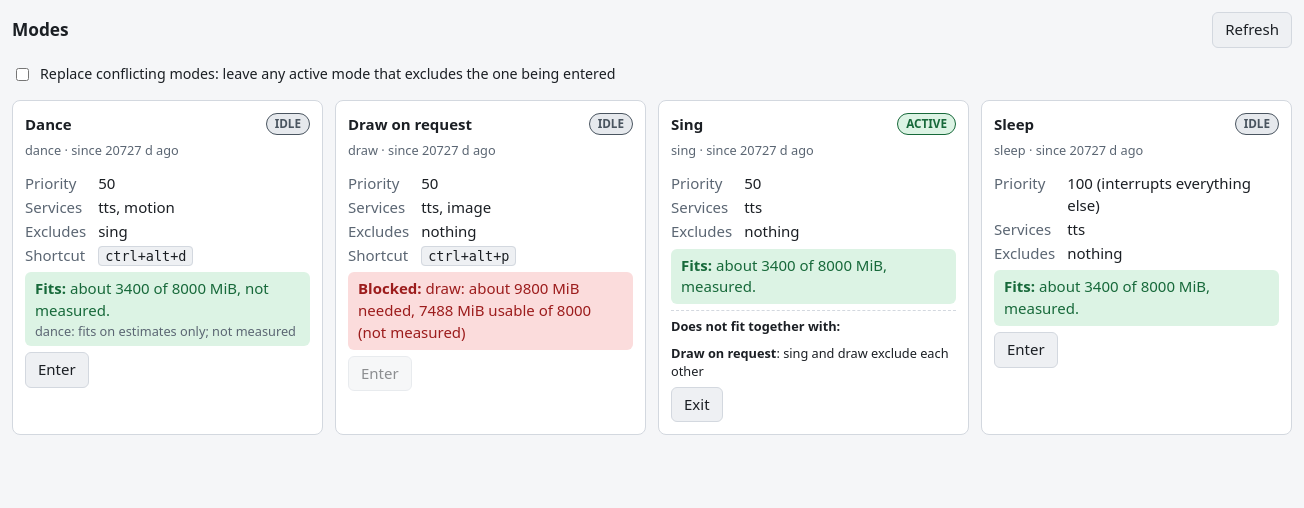
Test case: entering and leaving › a refusal by the orchestrator is shown with the mode's name, in its own words
The width and height of the screenshot is (1304, 508).
Click the button "Enter" below "ctrl+alt+d": point(57, 370) [25, 352, 89, 388]
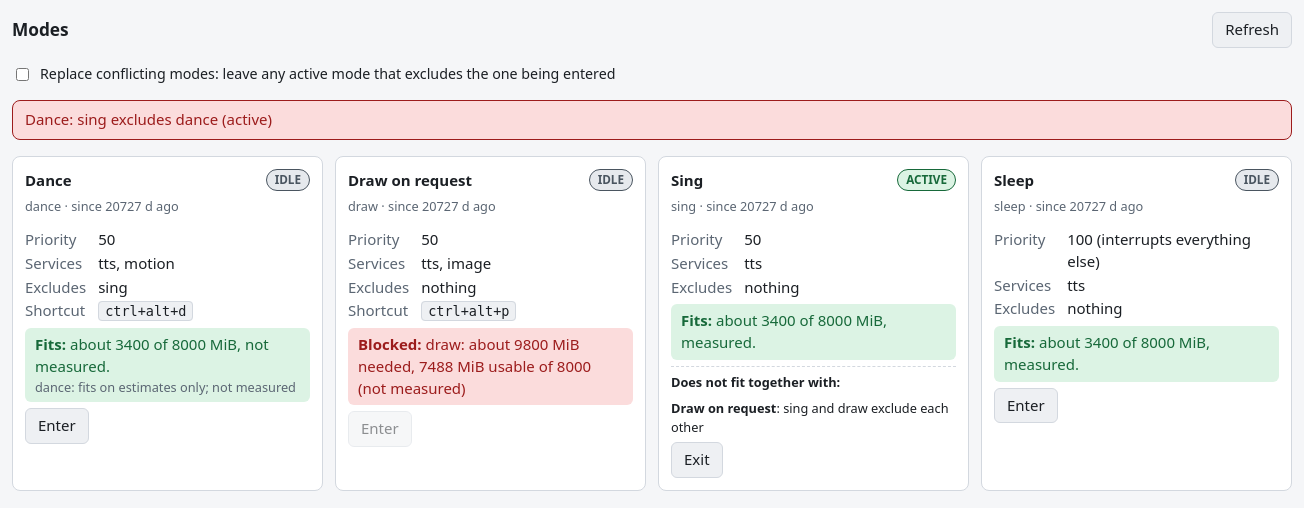
Expected: the message reads "Dance: sing excludes dance (active)", [25, 109, 272, 129]
